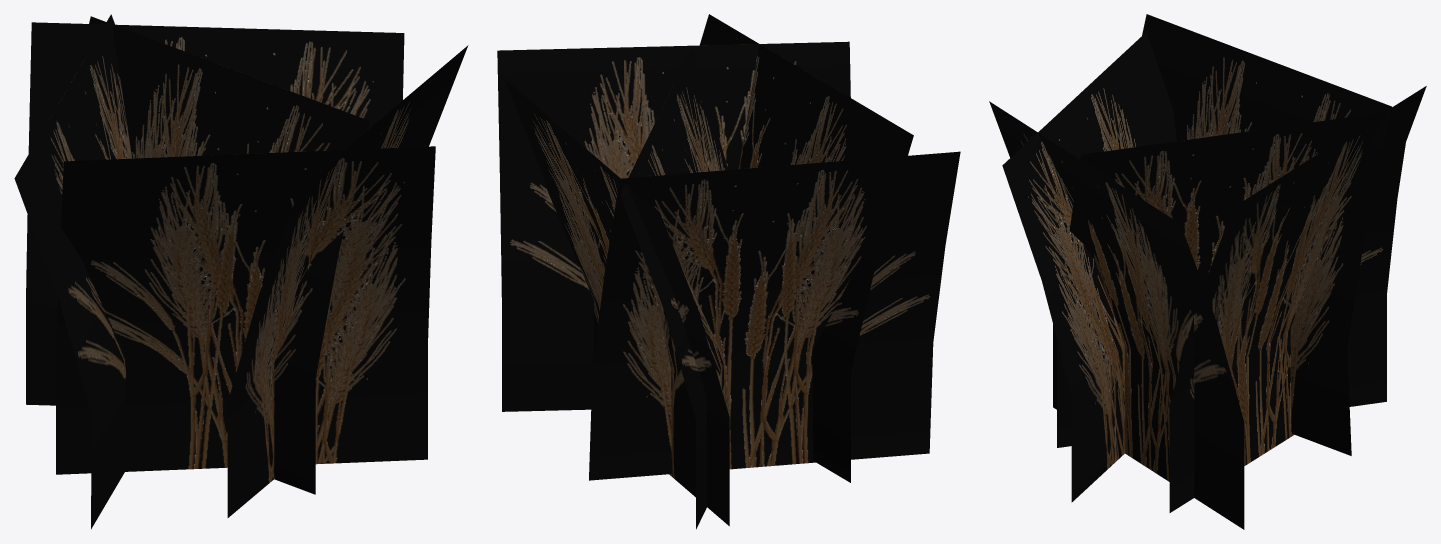
The model's file is wheat_1.dae.
The picture shows the model from 3 angles, left to right: view 1: azimuth 30°, elevation 25°; view 2: azimuth 150°, elevation 25°; view 3: azimuth 270°, elevation 25°; orthographic projection. The views are drawn at different scales.
Visible parts, largest first — view 1: wheat_1; view 2: wheat_1; view 3: wheat_1.
Part boxes in pixels (<box>): wheat_1: <box>14,14,468,529</box>; wheat_1: <box>497,14,960,529</box>; wheat_1: <box>989,14,1426,529</box>.
Bounding box in the file's own units: 1.7 × 1.47 × 1.25.
Materials: 1 (1 with a texture image).
